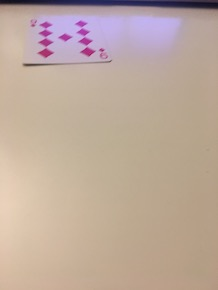NineOfDiamonds: (19, 11, 117, 69)
